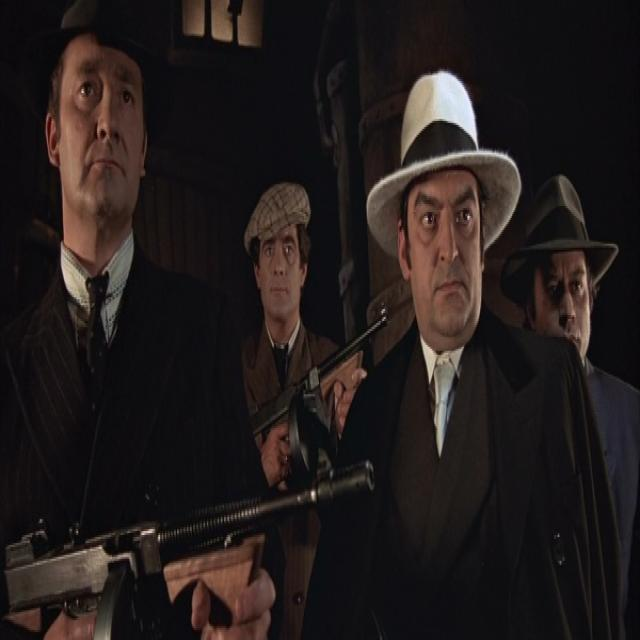rifle: (1, 459, 380, 614), (249, 303, 394, 478)
